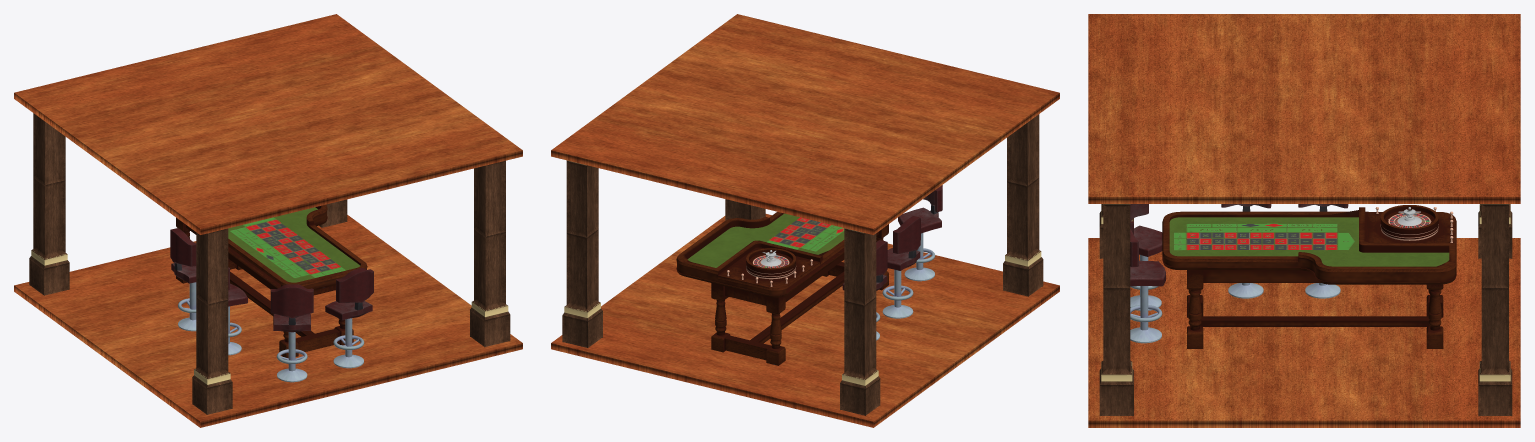
The model's file is casino_env.glb.
3 renders of one model, left to right at view 1: azimuth 30°, elevation 25°; view 2: azimuth 150°, elevation 25°; view 3: azimuth 270°, elevation 25°, orthographic. The views are drawn at different scales.
Visible parts, largest first — view 1: pPlane2, pPlane3, polySurface36, pCube5, pCube4, pCube6, polySurface9, polySurface39, polySurface38, polySurface37, pCube3; view 2: pPlane2, pPlane3, polySurface36, pCube6, pCube3, pCube5, polySurface37, polySurface9, pCube4, polySurface38; view 3: pPlane2, pPlane3, polySurface36, pCube3, pCube4, polySurface39, polySurface9, polySurface37, polySurface38, pCube6.
Part boxes in pixels (x1=…): pPlane2: x1=14, y1=14, x2=522, y2=234; pPlane3: x1=14, y1=215, x2=522, y2=427; polySurface36: x1=176, y1=204, x2=367, y2=358; pCube5: x1=192, y1=228, x2=232, y2=414; pCube4: x1=470, y1=160, x2=510, y2=347; pCube6: x1=29, y1=113, x2=69, y2=295; polySurface9: x1=270, y1=284, x2=313, y2=382; polySurface39: x1=325, y1=268, x2=373, y2=368; polySurface38: x1=170, y1=228, x2=196, y2=331; polySurface37: x1=228, y1=267, x2=247, y2=355; pCube3: x1=319, y1=199, x2=347, y2=227; pPlane2: x1=551, y1=14, x2=1059, y2=234; pPlane3: x1=551, y1=214, x2=1059, y2=427; polySurface36: x1=676, y1=212, x2=888, y2=365; pCube6: x1=840, y1=228, x2=880, y2=415; pCube3: x1=562, y1=160, x2=602, y2=347; pCube5: x1=1003, y1=114, x2=1043, y2=296; polySurface37: x1=882, y1=216, x2=920, y2=318; polySurface9: x1=898, y1=185, x2=942, y2=281; pCube4: x1=725, y1=199, x2=765, y2=220; polySurface38: x1=842, y1=240, x2=887, y2=340; pPlane2: x1=1088, y1=14, x2=1520, y2=203; pPlane3: x1=1088, y1=238, x2=1520, y2=427; polySurface36: x1=1162, y1=205, x2=1456, y2=348; pCube3: x1=1478, y1=204, x2=1512, y2=416; pCube4: x1=1099, y1=204, x2=1133, y2=416; polySurface39: x1=1130, y1=221, x2=1165, y2=343; polySurface9: x1=1130, y1=204, x2=1162, y2=310; polySurface37: x1=1221, y1=204, x2=1271, y2=298; polySurface38: x1=1298, y1=204, x2=1348, y2=298; pCube6: x1=1478, y1=204, x2=1512, y2=258.
Size of the model in its own units: 1416 by 835 by 1416.
Materials: 4 (4 with a texture image).
